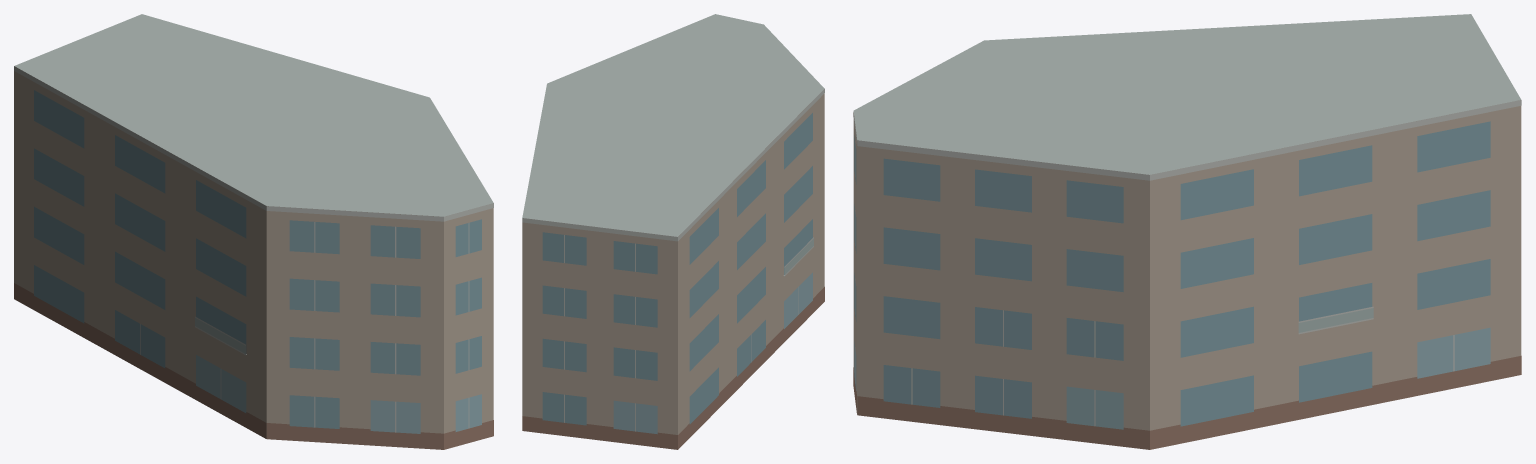
Rendered from survey-upis-32660596.glb.
3 views of the same model, side by side, from view 1: azimuth 30°, elevation 25°; view 2: azimuth 150°, elevation 25°; view 3: azimuth 270°, elevation 25° (orthographic). The views are drawn at different scales.
Parts seen in each view (by area): view 1: survey-upis-32660596.tmp; view 2: survey-upis-32660596.tmp; view 3: survey-upis-32660596.tmp.
Boxes of the visible parts, <box> form: survey-upis-32660596.tmp: <box>14,14,493,449</box>; survey-upis-32660596.tmp: <box>522,14,824,449</box>; survey-upis-32660596.tmp: <box>853,14,1521,449</box>.
Bounding box in the file's own units: 14.44 × 11.5 × 25.33.
